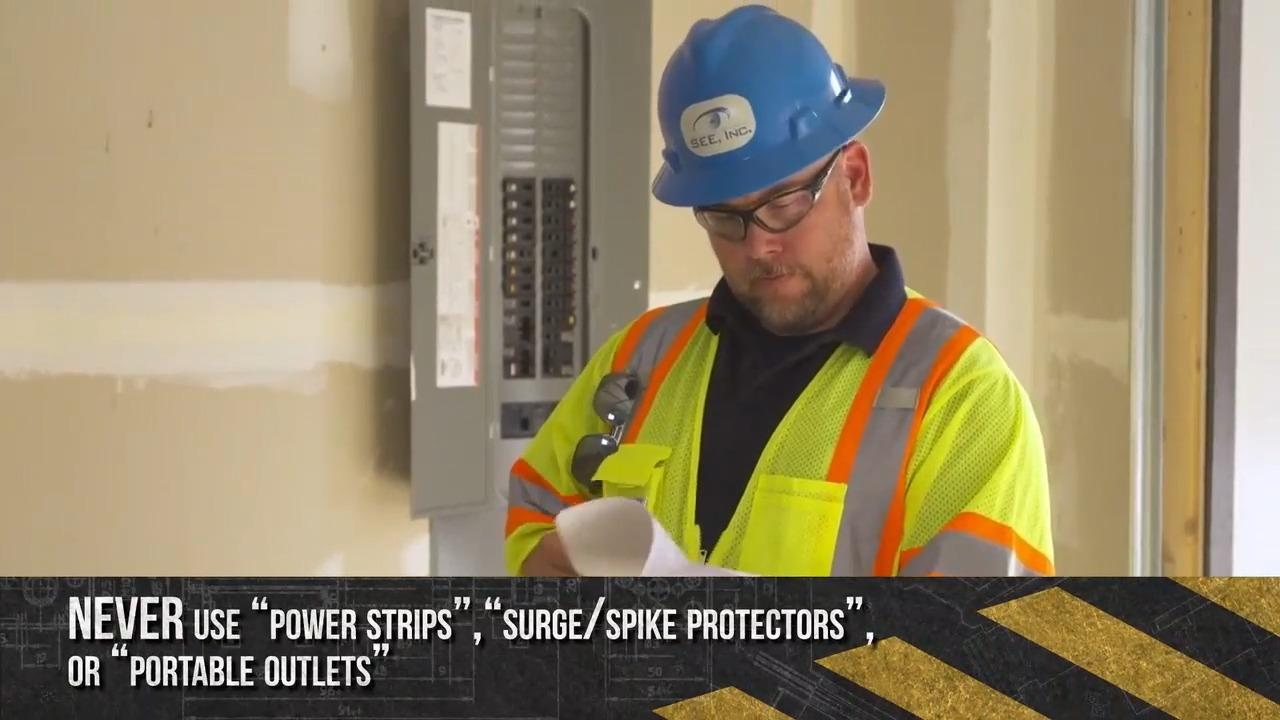Helmet: (648, 3, 887, 208)
Person: (503, 11, 1051, 579)
Safety Vest: (575, 318, 997, 592)
